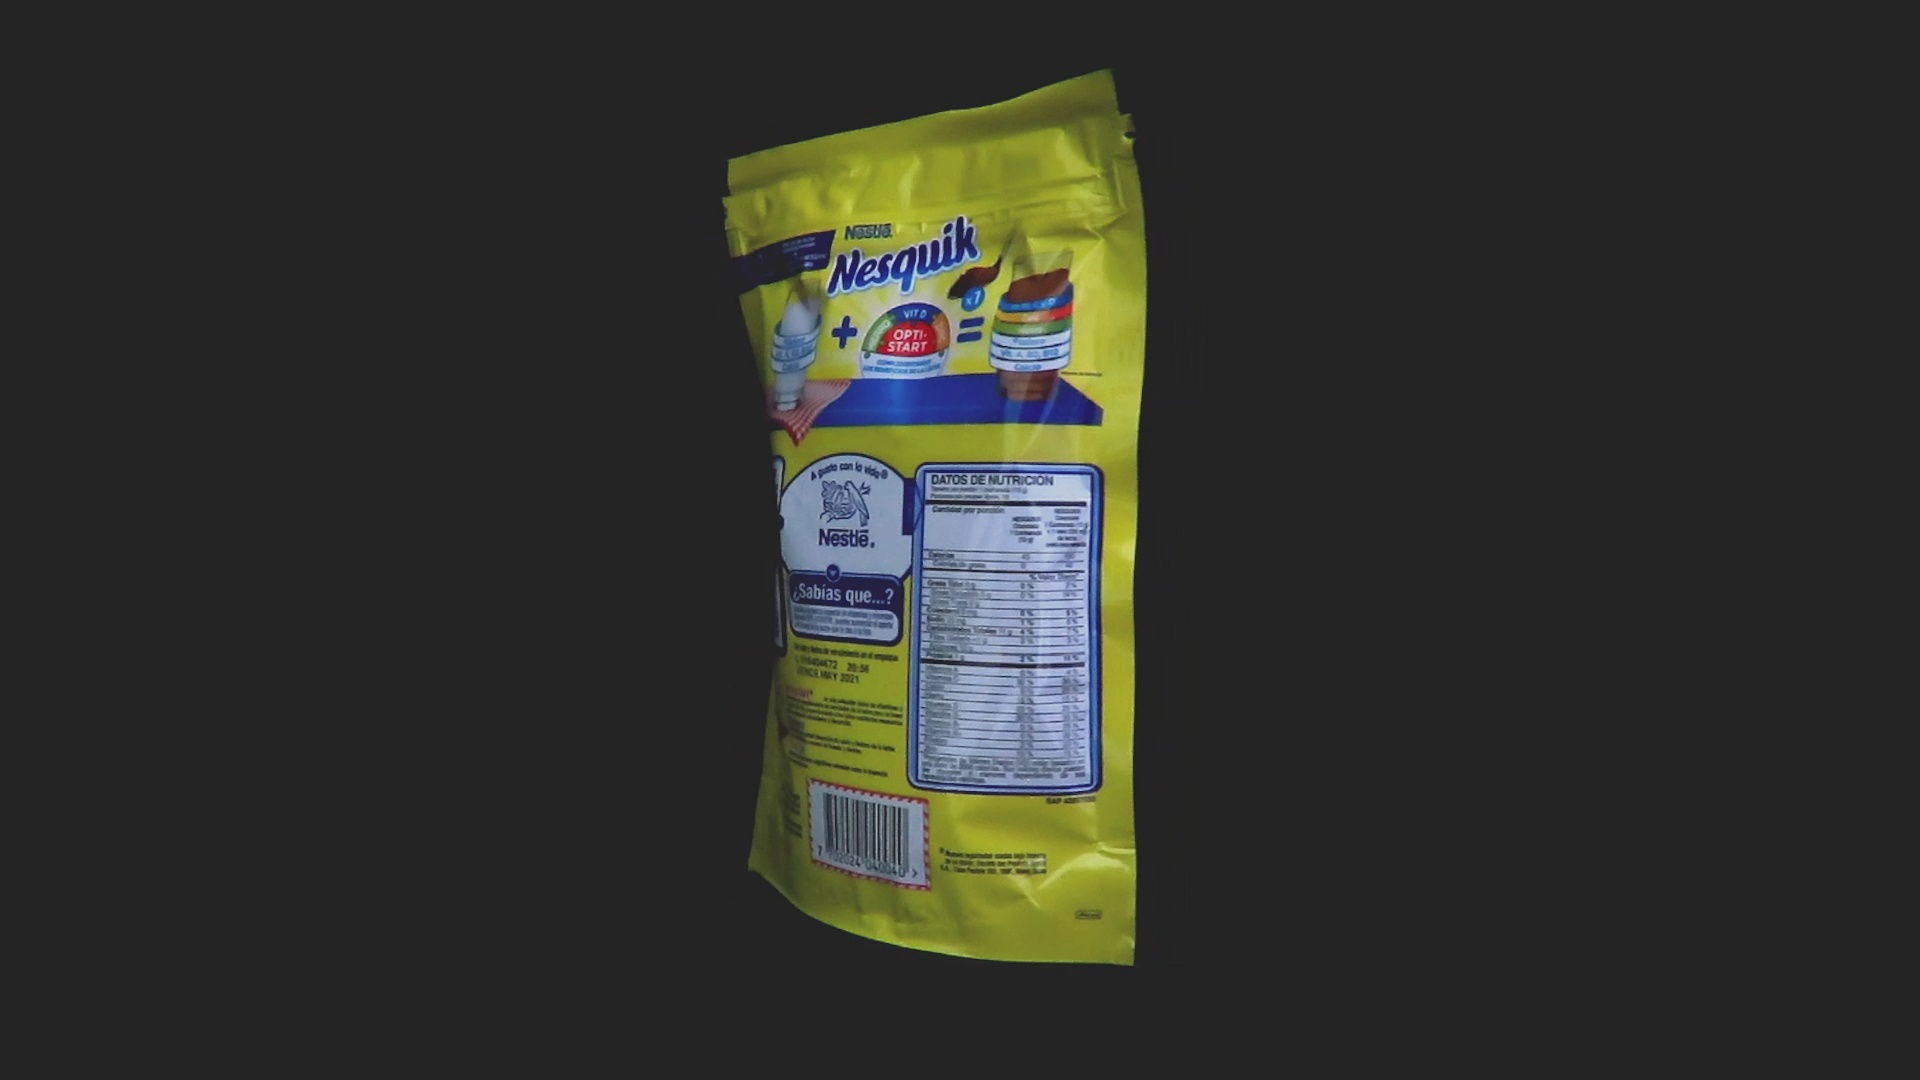COL0170303DYP20000: (716, 63, 1153, 972)
